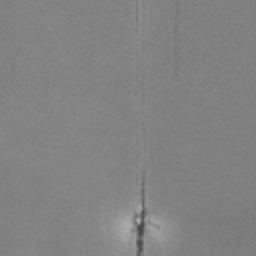Slag inclusion: (136, 174, 146, 256)
